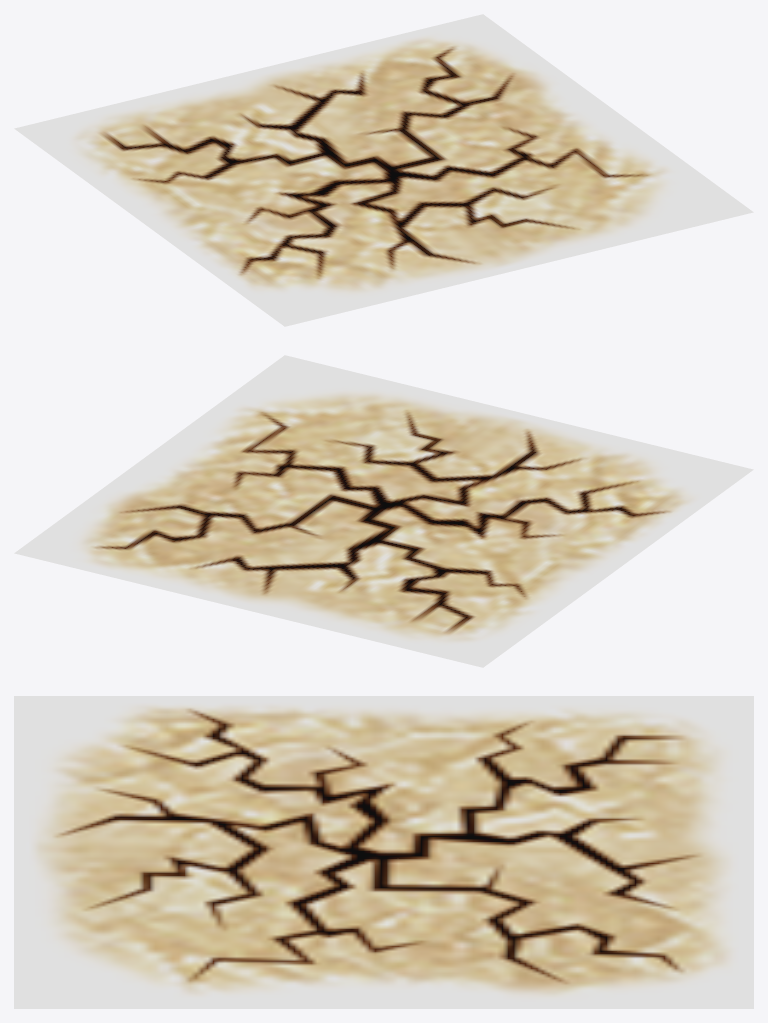
Rendered from sfx_spirit_order_hellhound_nonstopdash_target1.glb.
3 renders of one model, top to bottom at view 1: azimuth 30°, elevation 25°; view 2: azimuth 150°, elevation 25°; view 3: azimuth 270°, elevation 25°, orthographic. The views are drawn at different scales.
Parts seen in each view (by area): view 1: sfx_spirit_order_hellhound_nonstopdash_target1; view 2: sfx_spirit_order_hellhound_nonstopdash_target1; view 3: sfx_spirit_order_hellhound_nonstopdash_target1.
Boxes of the visible parts, x1,y1,x2,y2 form: sfx_spirit_order_hellhound_nonstopdash_target1: [14, 14, 753, 326]; sfx_spirit_order_hellhound_nonstopdash_target1: [14, 355, 753, 667]; sfx_spirit_order_hellhound_nonstopdash_target1: [14, 696, 753, 1008].
Bounding box in the file's own units: 5 × 0.2 × 5.
Materials: 2 (2 with a texture image).
